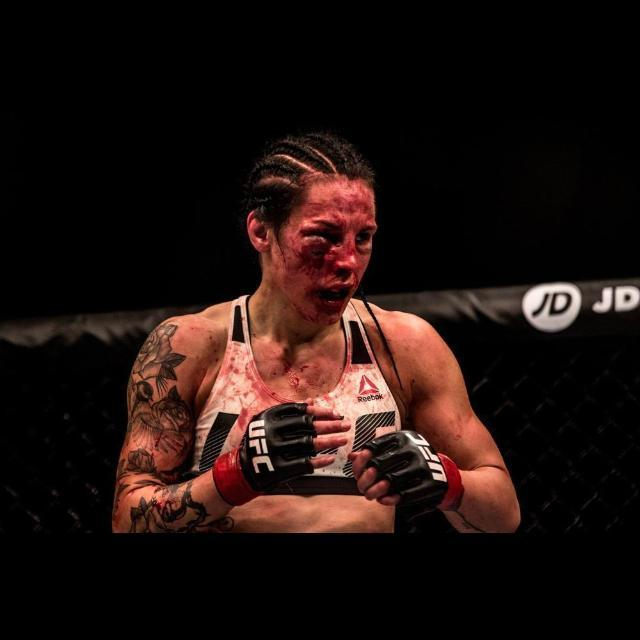blood: (251, 176, 377, 399), (190, 296, 294, 476), (316, 304, 401, 447), (131, 481, 188, 521)
